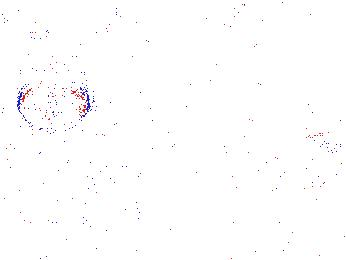moon jellyfish: (30, 18, 114, 90), (277, 135, 346, 208), (17, 68, 90, 133), (143, 21, 232, 63)
